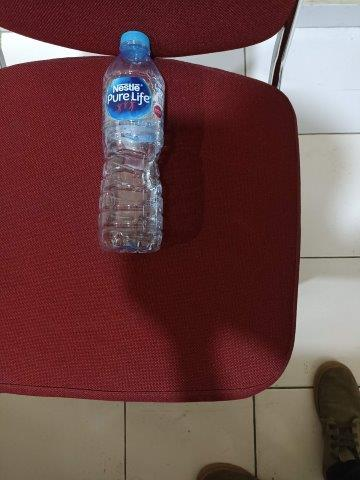botolplastik: (98, 29, 163, 253)
